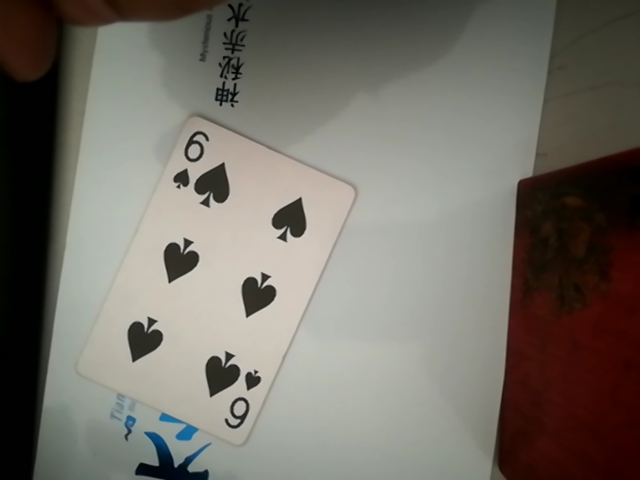ht 6: (95, 100, 352, 441)
